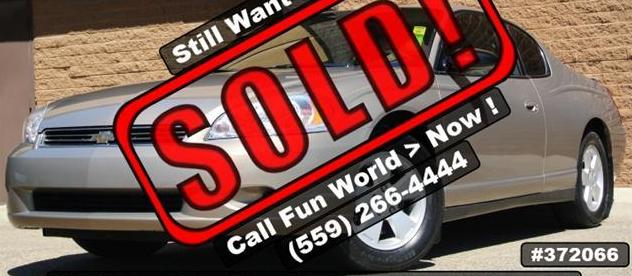front_view: (7, 99, 319, 236)
headlight: (11, 96, 55, 145)
side_glass: (434, 13, 561, 82)
